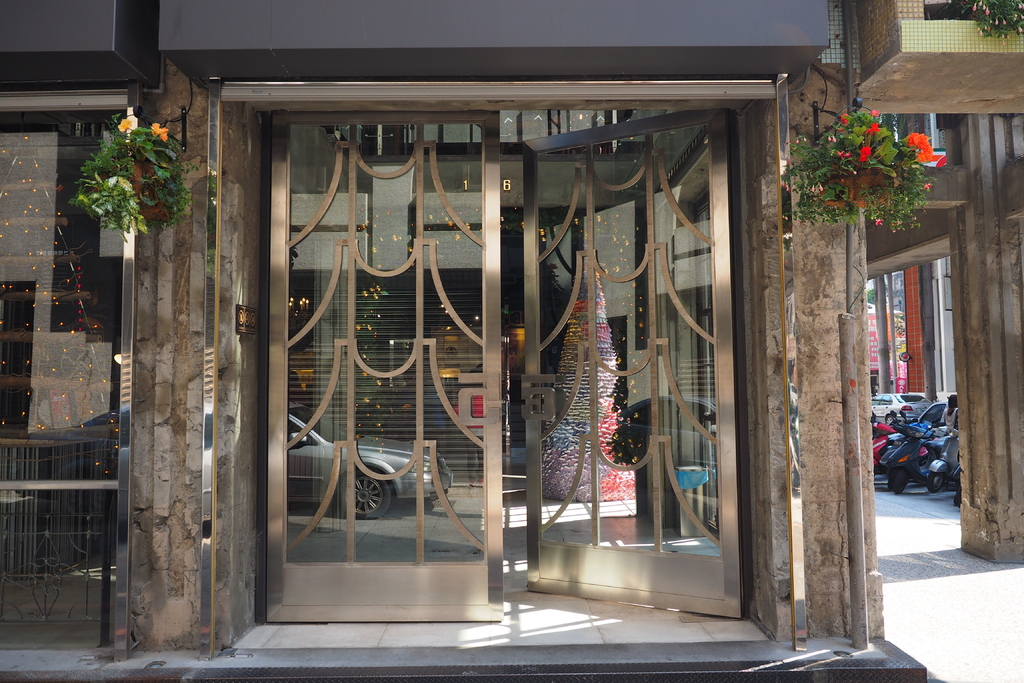door: (271, 122, 498, 614), (531, 149, 723, 605)
handle: (518, 370, 569, 434), (454, 365, 497, 428)
